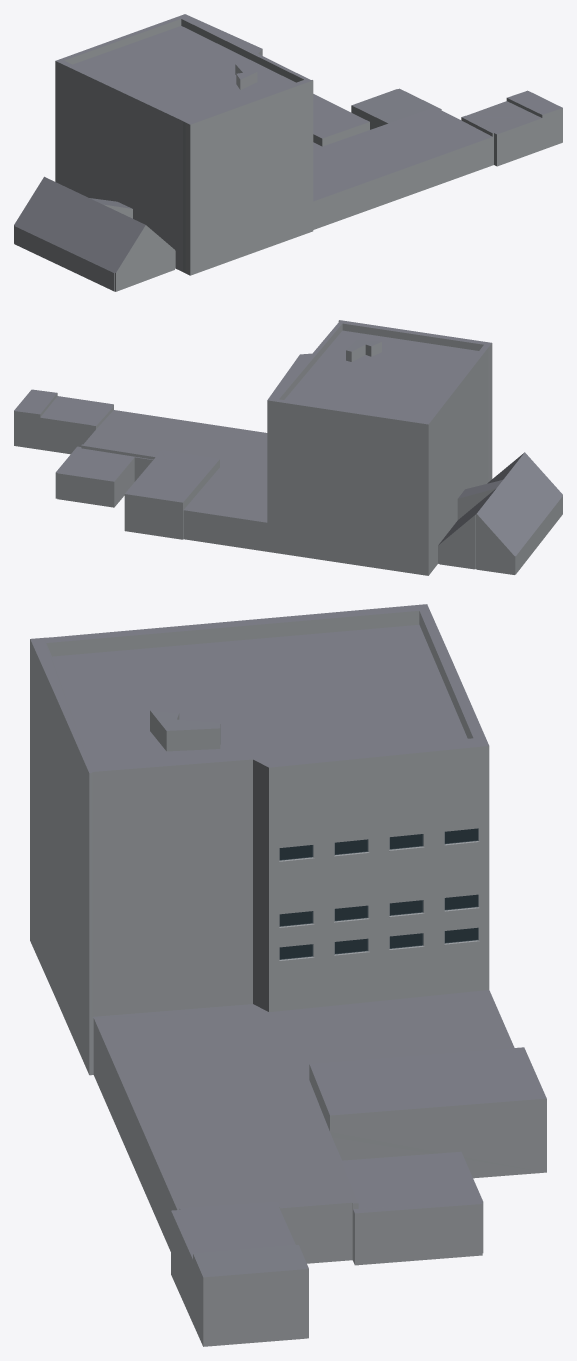
The model's file is recipe-large-grasweg-41-201637.glb.
The picture shows the model from 3 angles, top to bottom: view 1: azimuth 30°, elevation 25°; view 2: azimuth 150°, elevation 25°; view 3: azimuth 270°, elevation 25°; orthographic projection. The views are drawn at different scales.
Visible parts, largest first — view 1: grasweg-41-201637; view 2: grasweg-41-201637; view 3: grasweg-41-201637.
Boxes of the visible parts, x1=… form: grasweg-41-201637: x1=14, y1=14, x2=562, y2=291; grasweg-41-201637: x1=14, y1=320, x2=562, y2=575; grasweg-41-201637: x1=30, y1=604, x2=546, y2=1346.
Bounding box in the file's own units: 130 × 37.07 × 56.21.
